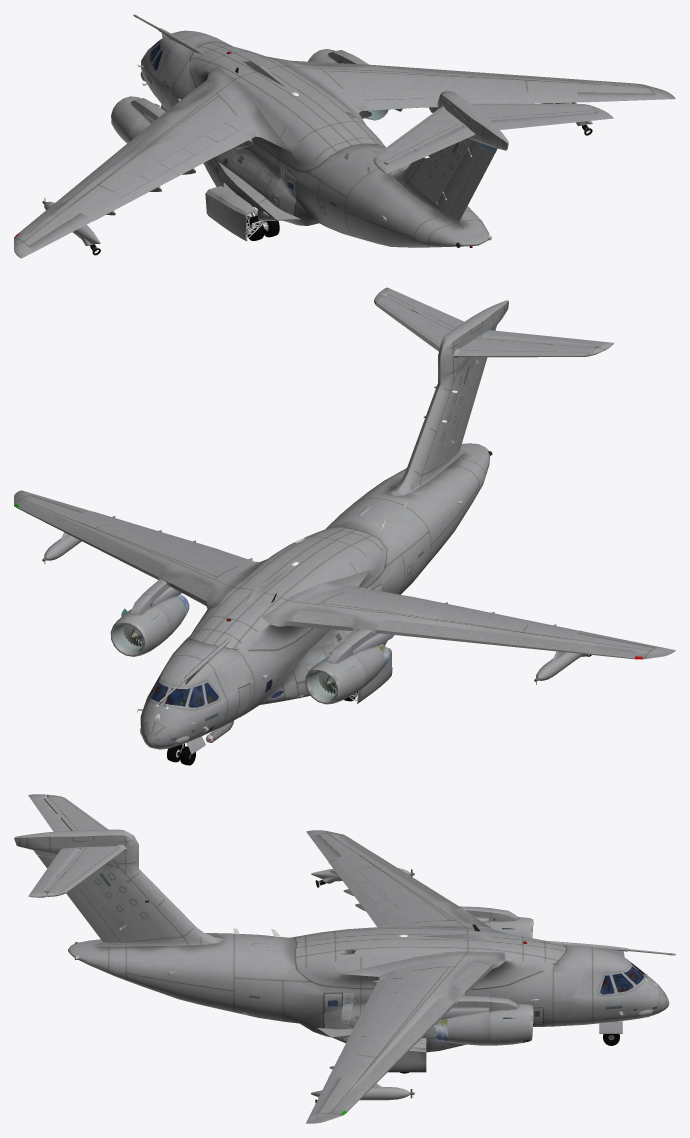
The model's file is aircraft.glb.
3 renders of one model, top to bottom at view 1: azimuth 30°, elevation 25°; view 2: azimuth 150°, elevation 25°; view 3: azimuth 270°, elevation 25°, orthographic. The views are drawn at different scales.
Visible parts, largest first — view 1: KC390, KC390.017, KC390.016, KC390.018, KC390.015, KC390.019, KC390.002, KC390.001, KC390.014, KC3902.001; view 2: KC390, KC390.017, KC390.002, KC390.018, KC390.001, KC390.016, KC390.015, KC390.019, KC390.012; view 3: KC390, KC390.018, KC390.016, KC390.017, KC390.002, KC390.015, KC390.001, KC390.019, KC390.012.
Boxes of the visible parts, <box> form: KC390: <box>133,14,489,247</box>; KC390.017: <box>14,66,291,258</box>; KC390.016: <box>262,56,675,124</box>; KC390.018: <box>390,90,508,228</box>; KC390.015: <box>373,103,613,173</box>; KC390.019: <box>203,148,321,241</box>; KC390.002: <box>44,49,592,245</box>; KC390.001: <box>18,61,634,233</box>; KC390.014: <box>14,89,652,257</box>; KC3902.001: <box>246,216,279,240</box>; KC390: <box>136,443,489,754</box>; KC390.017: <box>261,569,675,659</box>; KC390.002: <box>45,532,587,704</box>; KC390.018: <box>390,300,508,495</box>; KC390.001: <box>17,502,634,659</box>; KC390.016: <box>14,490,267,609</box>; KC390.015: <box>374,287,613,357</box>; KC390.019: <box>259,587,401,704</box>; KC390.012: <box>149,676,283,740</box>; KC390: <box>68,926,675,1033</box>; KC390.018: <box>14,829,223,946</box>; KC390.016: <box>306,951,505,1123</box>; KC390.017: <box>306,830,503,932</box>; KC390.002: <box>311,868,533,1100</box>; KC390.015: <box>28,794,123,897</box>; KC390.001: <box>337,836,490,1111</box>; KC390.019: <box>299,1001,465,1072</box>; KC390.012: <box>328,961,656,1016</box>.
Size of what is drawn, in the model's own units: 34.87 by 12.09 by 33.35.
22 materials, 14 textured.
